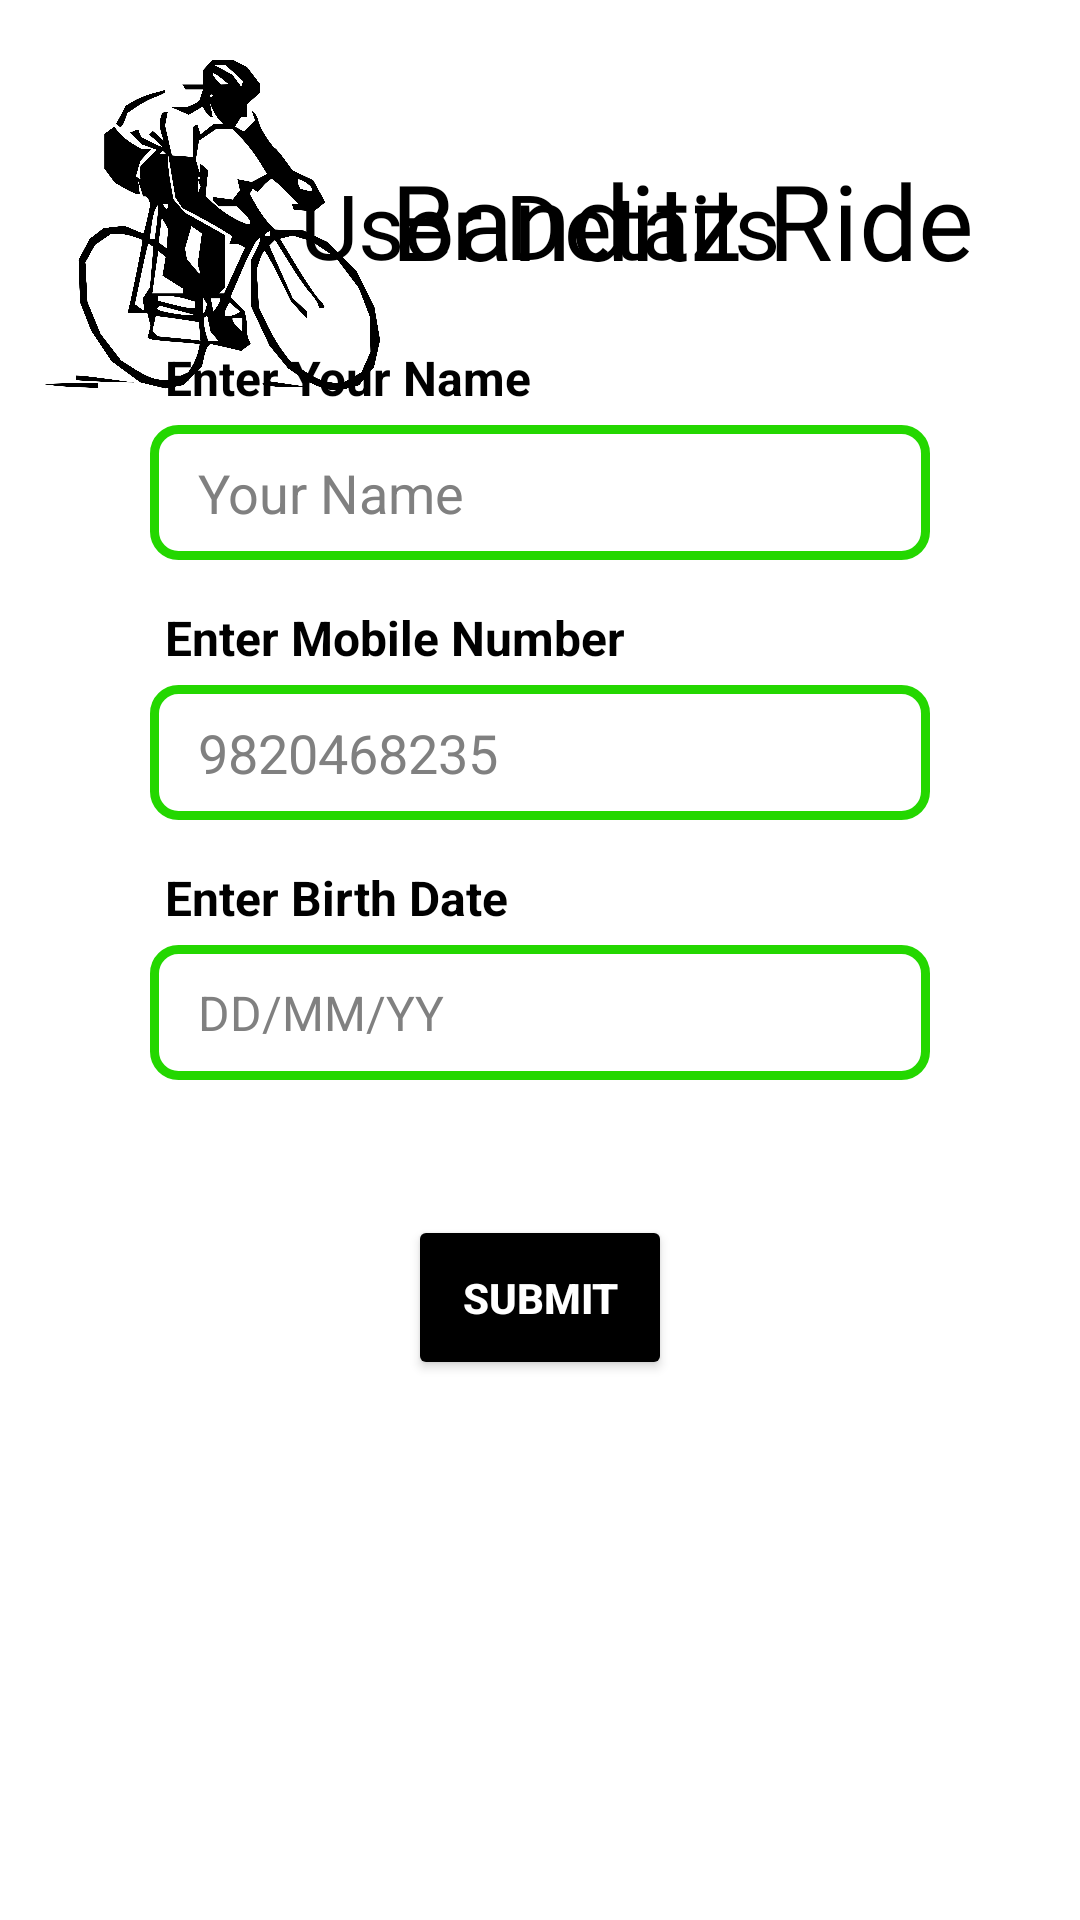

Icon bounding boxes for this 1080*1920 phone screenshot, format (x1, y1, x2, y2):
bicycle: (45, 60, 390, 397)
